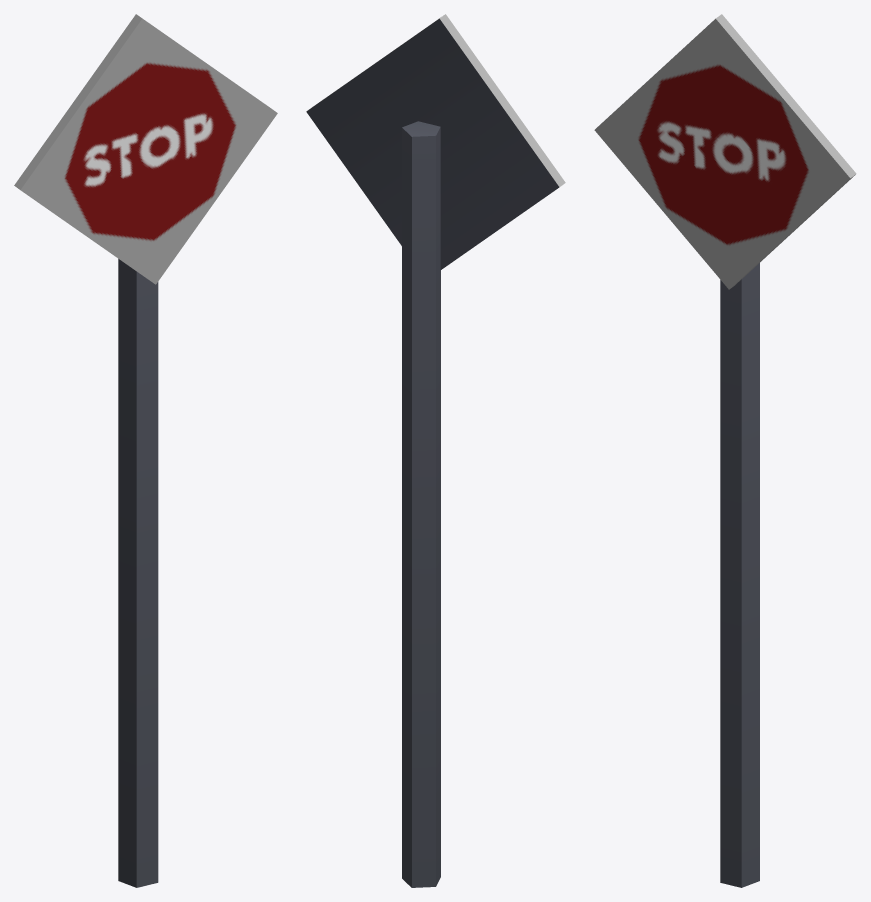
Rendered from SM_SignBoard_5.FBX.
3 renders of one model, left to right at view 1: azimuth 30°, elevation 25°; view 2: azimuth 150°, elevation 25°; view 3: azimuth 330°, elevation 25°, orthographic.
Parts seen in each view (by area): view 1: SM_SignBoard_5; view 2: SM_SignBoard_5; view 3: SM_SignBoard_5.
Part boxes in pixels (x1,y1,x2,y2): SM_SignBoard_5: [14, 14, 277, 887]; SM_SignBoard_5: [306, 14, 565, 887]; SM_SignBoard_5: [594, 14, 856, 887].
Size of what is drawn, in the model's own units: 98.86 by 16.1 by 320.
